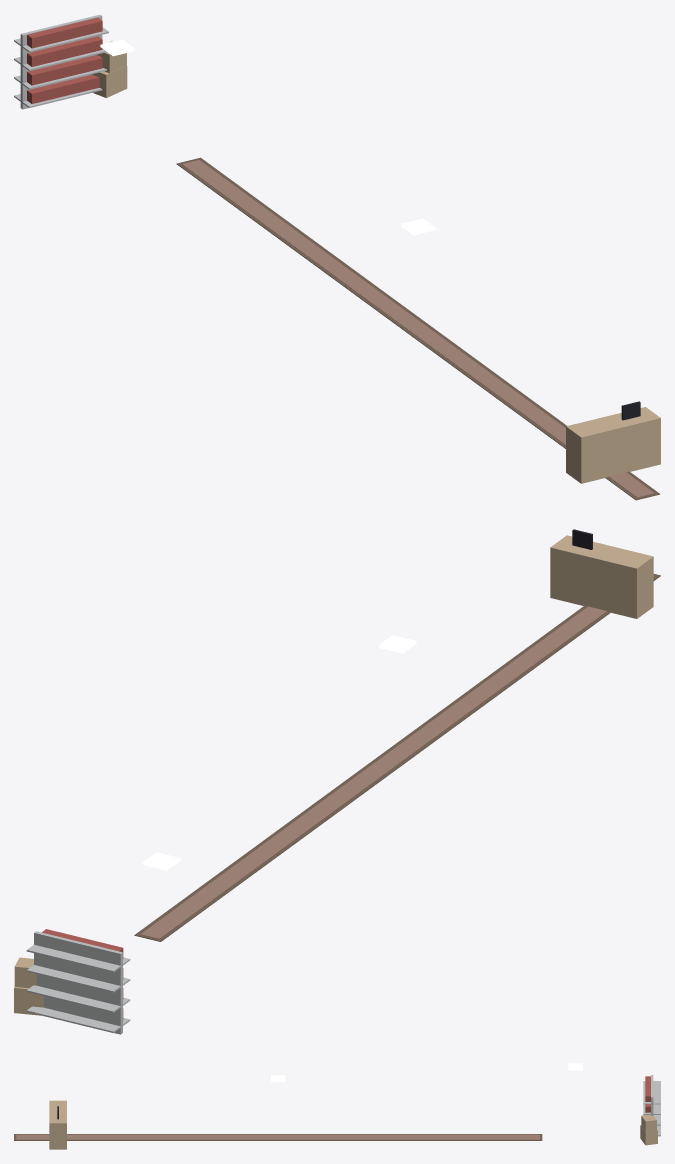
The model's file is fine-s0.glb.
3 views of the same model, one above another, from view 1: azimuth 30°, elevation 25°; view 2: azimuth 150°, elevation 25°; view 3: azimuth 270°, elevation 25° (orthographic). The views are drawn at different scales.
Visible parts, largest first — view 1: soft-s0, shelving.000, shop-counter.000, cardboard-box.000; view 2: soft-s0, shelving.000, shop-counter.000, cardboard-box.000; view 3: soft-s0, shop-counter.000, shelving.000, cardboard-box.000.
Part boxes in pixels (box(x1,y1,x2,y2)): soft-s0: box(176, 157, 660, 500); shelving.000: box(14, 14, 108, 109); shop-counter.000: box(566, 401, 660, 483); cardboard-box.000: box(92, 41, 127, 97); soft-s0: box(134, 574, 660, 941); shelving.000: box(26, 929, 130, 1034); shop-counter.000: box(550, 529, 653, 618); cardboard-box.000: box(14, 957, 43, 1015); soft-s0: box(14, 1134, 542, 1140); shop-counter.000: box(49, 1100, 66, 1149); shelving.000: box(643, 1075, 660, 1136); cardboard-box.000: box(640, 1115, 657, 1145).
Size of the model in its own units: 2.6 by 2.24 by 22.
